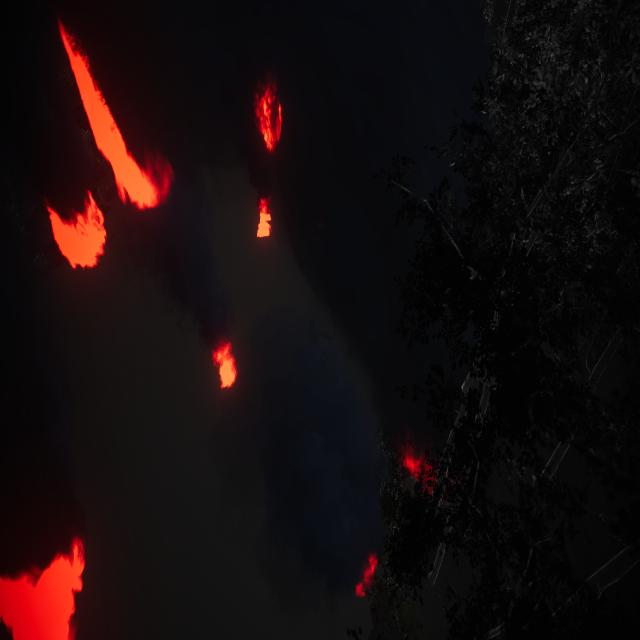Human: (304, 314, 339, 363)
